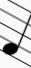F: (3, 1, 31, 68)
